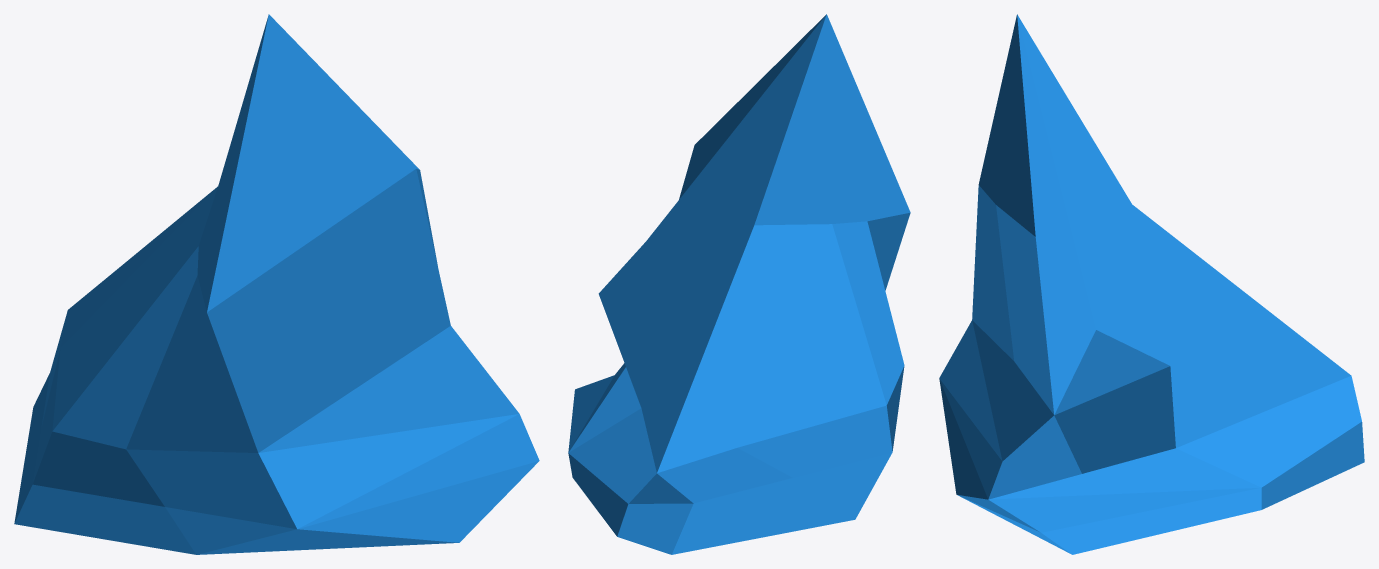
Rendered from Mesh_Montagne5.fbx.
3 views of the same model, side by side, from view 1: azimuth 30°, elevation 25°; view 2: azimuth 150°, elevation 25°; view 3: azimuth 270°, elevation 25° (orthographic). The views are drawn at different scales.
Parts seen in each view (by area): view 1: montagne; view 2: montagne; view 3: montagne.
Part boxes in pixels (x1=…): montagne: x1=14, y1=14, x2=539, y2=554; montagne: x1=568, y1=14, x2=910, y2=554; montagne: x1=939, y1=14, x2=1364, y2=554.
Size of the model in its own units: 7332 by 8497 by 7484.
